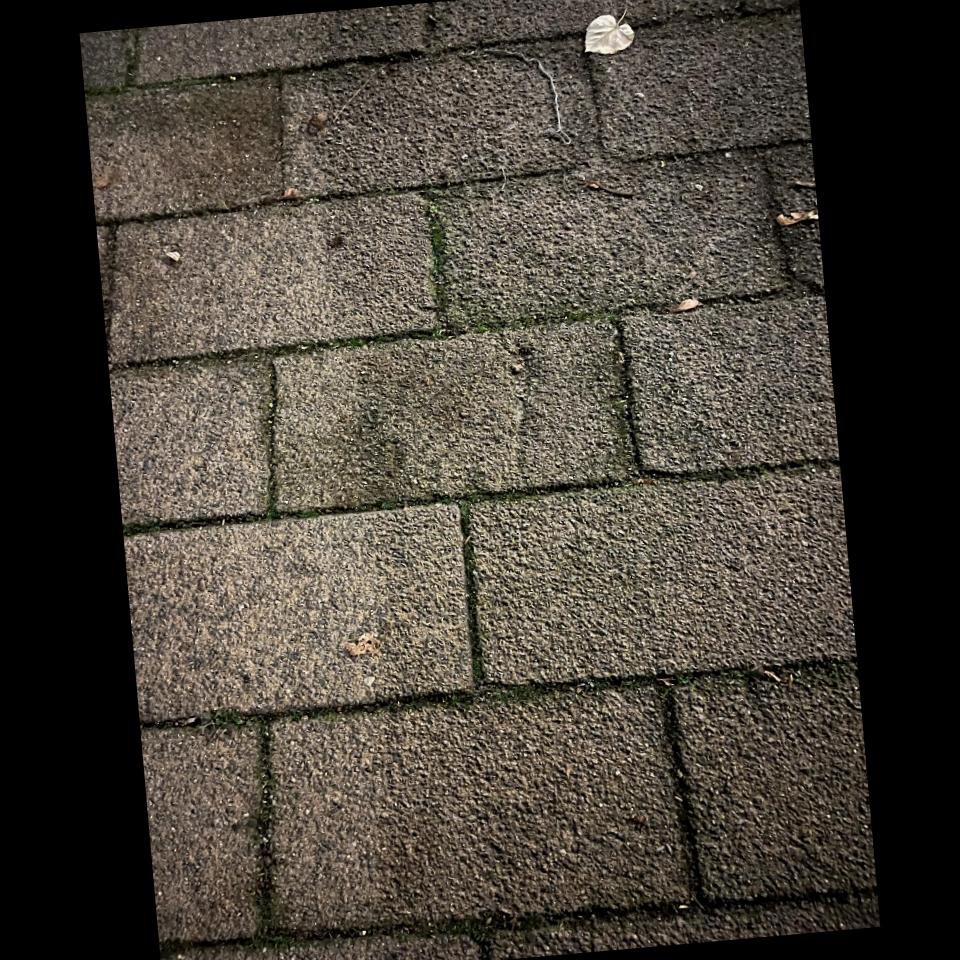weed: (271, 301, 615, 355), (230, 683, 572, 725), (123, 507, 347, 541), (348, 483, 579, 513), (424, 188, 448, 328), (577, 675, 664, 696)
